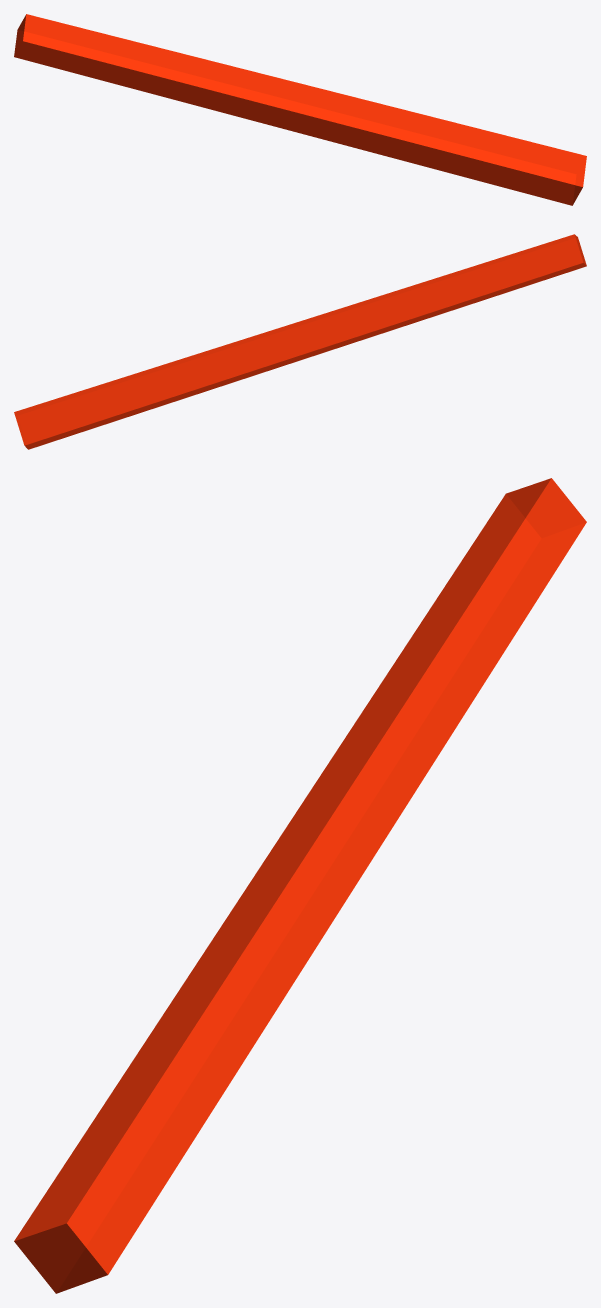
Rendered from Event_421278790_EBrechit_9.fbx.
3 renders of one model, top to bottom at view 1: azimuth 30°, elevation 25°; view 2: azimuth 210°, elevation 25°; view 3: azimuth 270°, elevation 25°, orthographic. The views are drawn at different scales.
Visible parts, largest first — view 1: Model; view 2: Model; view 3: Model.
Boxes of the visible parts, x1,y1,x2,y2 form: Model: (14,14,586,205); Model: (14,234,586,449); Model: (14,478,586,1293).
Bounding box in the file's own units: 0.9616 × 0.4126 × 0.5279.
